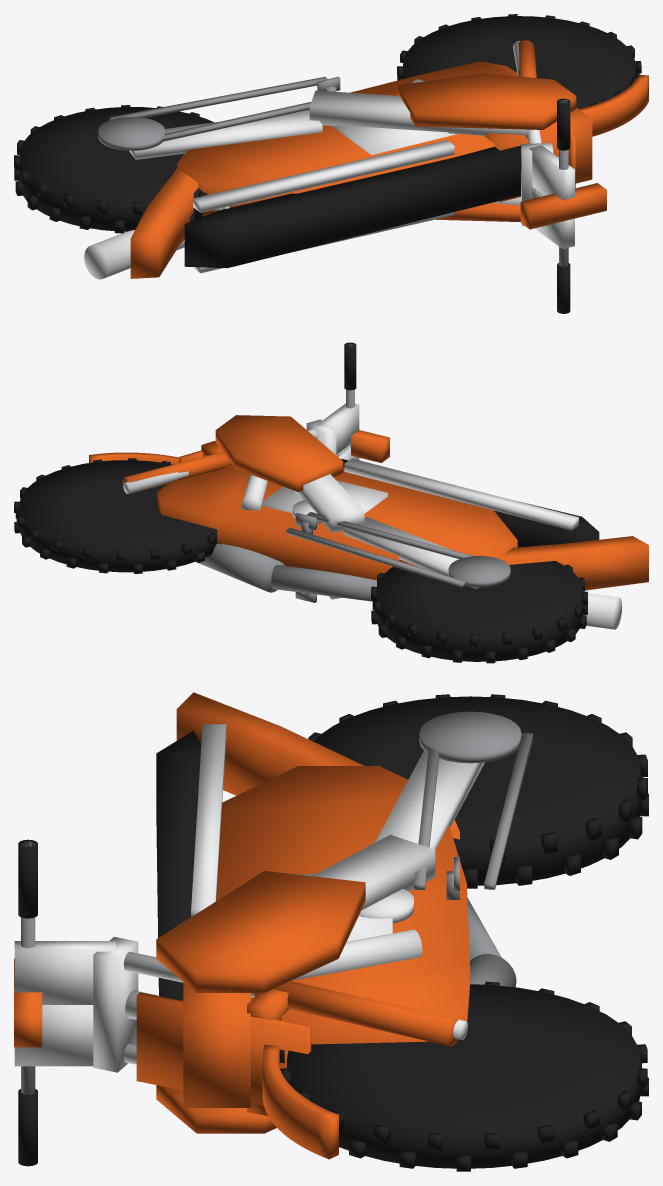
The model's file is motocross.obj.
The picture shows the model from 3 angles, top to bottom: view 1: azimuth 30°, elevation 25°; view 2: azimuth 150°, elevation 25°; view 3: azimuth 270°, elevation 25°; orthographic projection. The views are drawn at different scales.
Parts seen in each view (by area): view 1: seat_130, tire_r_48, tire_f_0, frame_core_129, shroud1_133, rear_fender_135, subframe1_119, spar1_117, swingarm1_139, bar_pad_111, tank_131, front_fender_134 (+13 smaller); view 2: frame_core_129, tire_r_48, tire_f_0, shroud1_133, rear_fender_135, subframe1_119, chamber_tail_126, swingarm1_139, chamber_belly_125, spar1_117, seat_130, sprocket_98 (+12 smaller); view 3: tire_f_0, frame_core_129, tire_r_48, shroud1_133, seat_130, tank_131, rear_fender_135, front_plate_113, fork_boot1_102, riser1_107, clamp0_104, subframe1_119 (+19 smaller).
Boxes of the visible parts, bbox=[...] form: seat_130: bbox=[184, 145, 520, 268]; tire_r_48: bbox=[19, 107, 213, 231]; tire_f_0: bbox=[403, 16, 635, 108]; frame_core_129: bbox=[177, 61, 517, 216]; shroud1_133: bbox=[397, 73, 576, 129]; rear_fender_135: bbox=[130, 167, 198, 278]; subframe1_119: bbox=[193, 140, 454, 212]; spar1_117: bbox=[309, 90, 534, 138]; swingarm1_139: bbox=[129, 110, 322, 159]; bar_pad_111: bbox=[520, 183, 606, 229]; tank_131: bbox=[484, 107, 592, 201]; front_fender_134: bbox=[579, 74, 648, 136]; frame_core_129: bbox=[157, 466, 517, 580]; tire_r_48: bbox=[376, 561, 582, 661]; tire_f_0: bbox=[19, 460, 217, 572]; shroud1_133: bbox=[215, 415, 343, 491]; rear_fender_135: bbox=[398, 536, 648, 590]; subframe1_119: bbox=[344, 458, 578, 530]; chamber_tail_126: bbox=[271, 565, 376, 601]; swingarm1_139: bbox=[343, 517, 479, 588]; chamber_belly_125: bbox=[195, 543, 284, 592]; spar1_117: bbox=[294, 474, 364, 532]; seat_130: bbox=[341, 459, 599, 547]; sprocket_98: bbox=[448, 556, 510, 587]; tire_f_0: bbox=[287, 984, 640, 1168]; frame_core_129: bbox=[216, 766, 470, 1044]; tire_r_48: bbox=[313, 696, 640, 885]; shroud1_133: bbox=[156, 871, 365, 992]; seat_130: bbox=[156, 731, 201, 1000]; tank_131: bbox=[183, 982, 250, 1107]; rear_fender_135: bbox=[176, 692, 459, 839]; front_plate_113: bbox=[136, 992, 311, 1105]; fork_boot1_102: bbox=[254, 981, 458, 1046]; riser1_107: bbox=[14, 941, 115, 1004]; clamp0_104: bbox=[93, 936, 138, 1072]; subframe1_119: bbox=[191, 724, 226, 916].
Size of the model in its own units: 2.29 by 0.7745 by 1.4.
